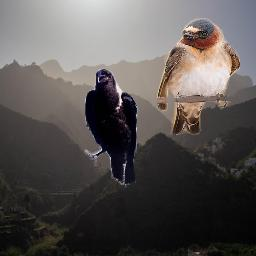Crow: (84, 68, 138, 187)
Swallow: (157, 18, 240, 135)
